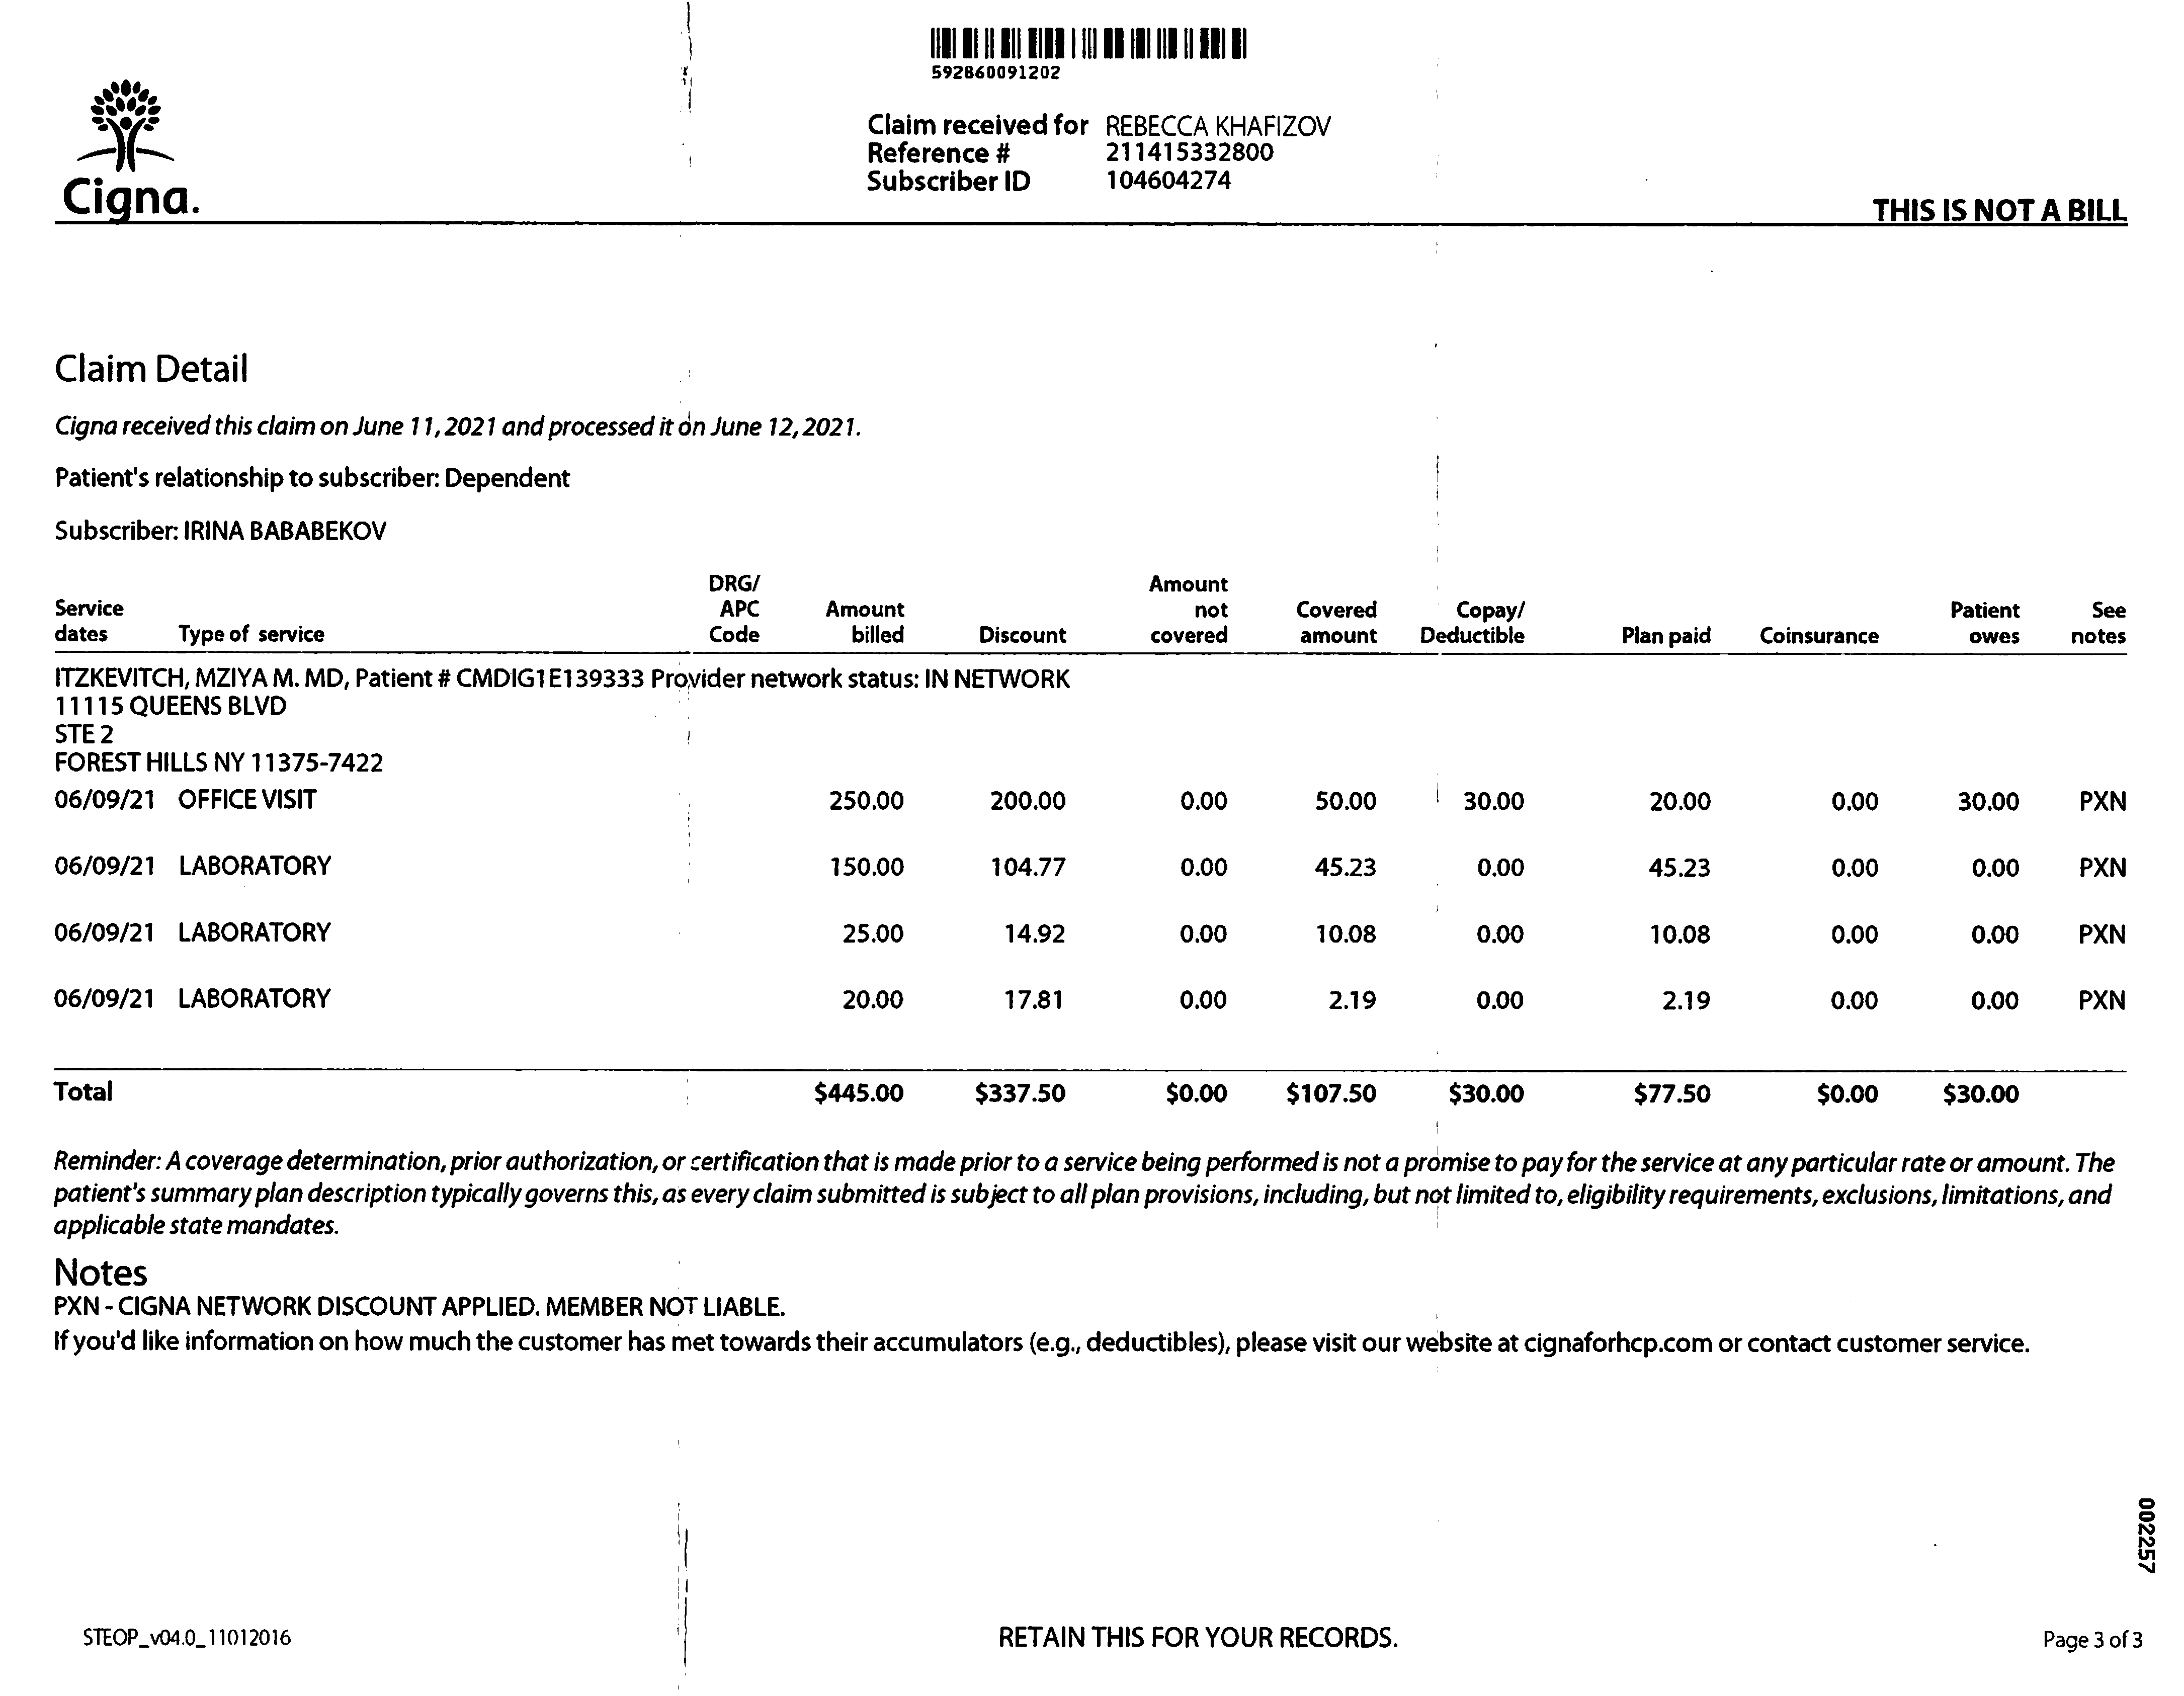data: (851, 99, 1351, 204)
table: (35, 558, 2143, 1118)
